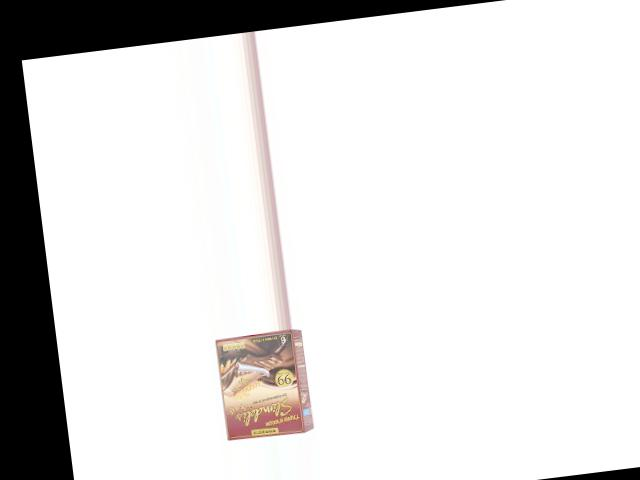chocolate: (205, 326, 319, 444)
